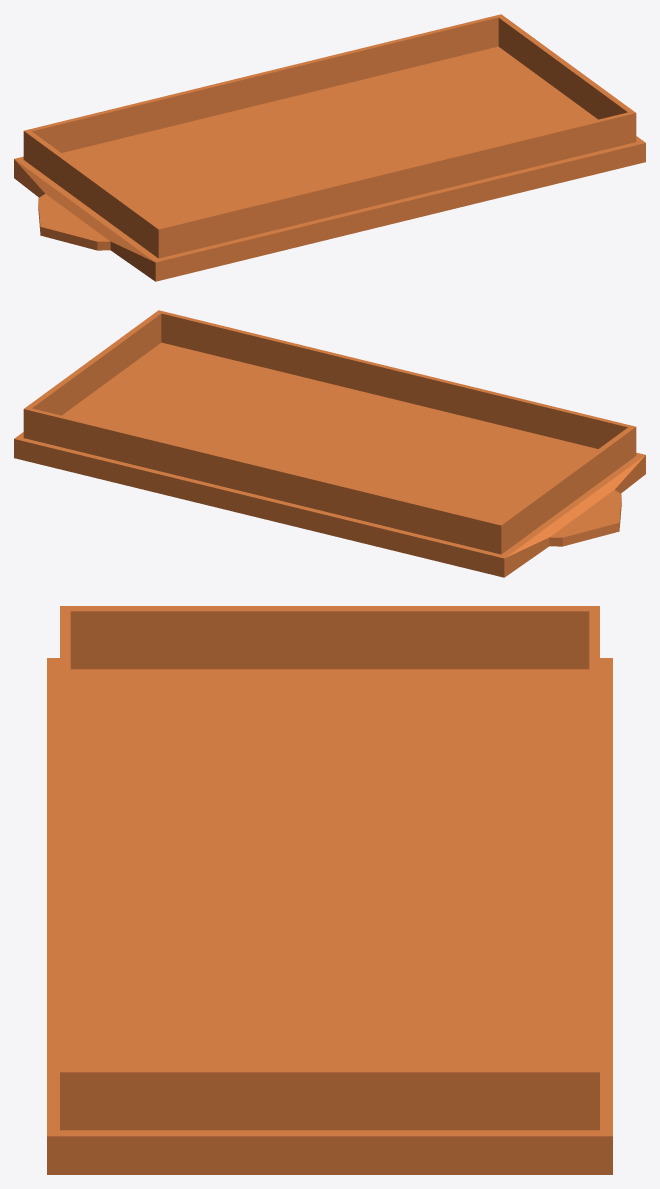
File: barge_empty.glb
3 views of the same model, one above another, from view 1: azimuth 30°, elevation 25°; view 2: azimuth 150°, elevation 25°; view 3: azimuth 270°, elevation 25° (orthographic). The views are drawn at different scales.
Visible parts, largest first — view 1: Cube; view 2: Cube; view 3: Cube.
Part boxes in pixels (left/top/right/bottom): Cube: left=14, top=14, right=645, bottom=281; Cube: left=14, top=310, right=645, bottom=577; Cube: left=47, top=606, right=612, bottom=1174.
Size of the model in its own units: 8.72 by 0.7523 by 4.
